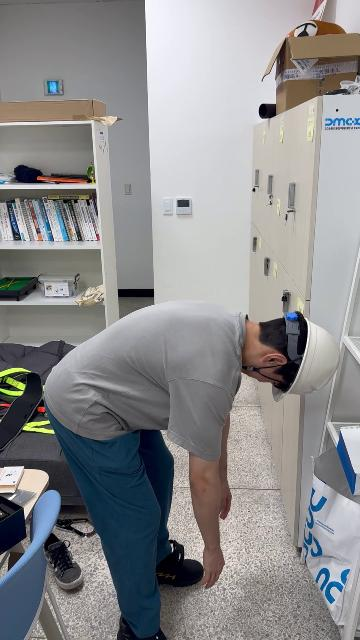helmet_worn: (271, 314, 341, 400)
shoe_not_worn: (41, 533, 84, 590)
shoe_worn: (154, 541, 203, 587), (118, 615, 168, 639)
vest_not_worn: (46, 302, 244, 447)
